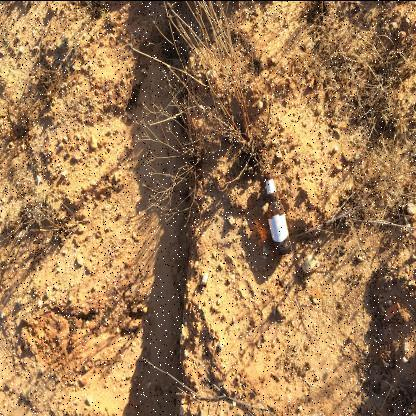glass: (264, 170, 292, 256)
